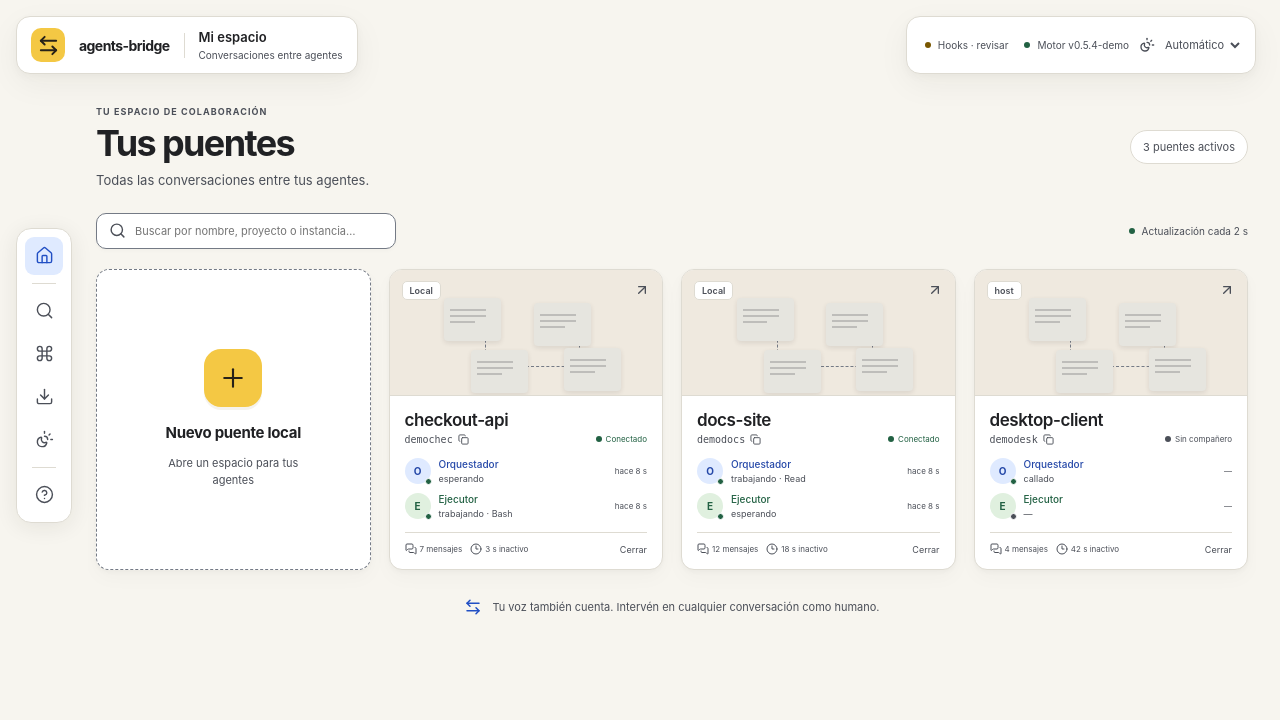
copy exports the full ID, and export uses the public API after native save
Click the button with aria-label "Copiar ID de checkout-api": (437, 439) 404,434 -> 469,445
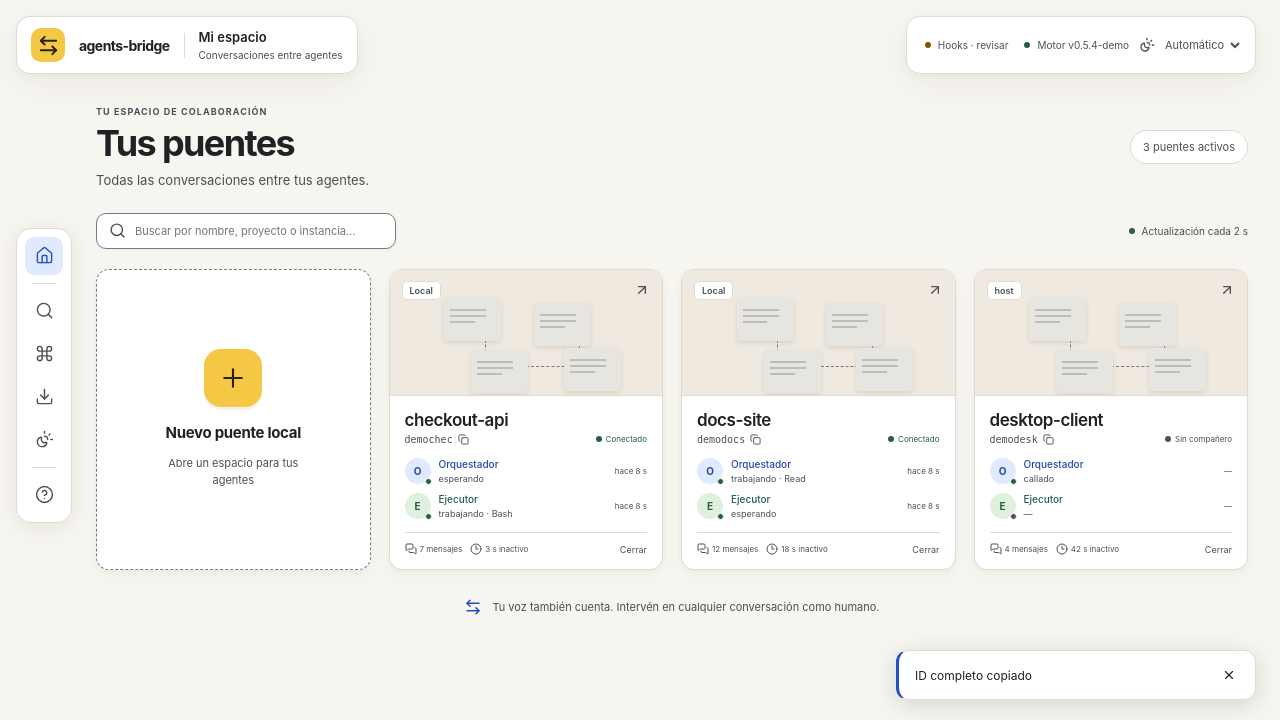
Check: the text "ID completo copiado" is shown, box 915,668 -> 1032,682
Click the button with aria-label "Abrir checkout-api": (526, 333) 390,270 -> 662,396
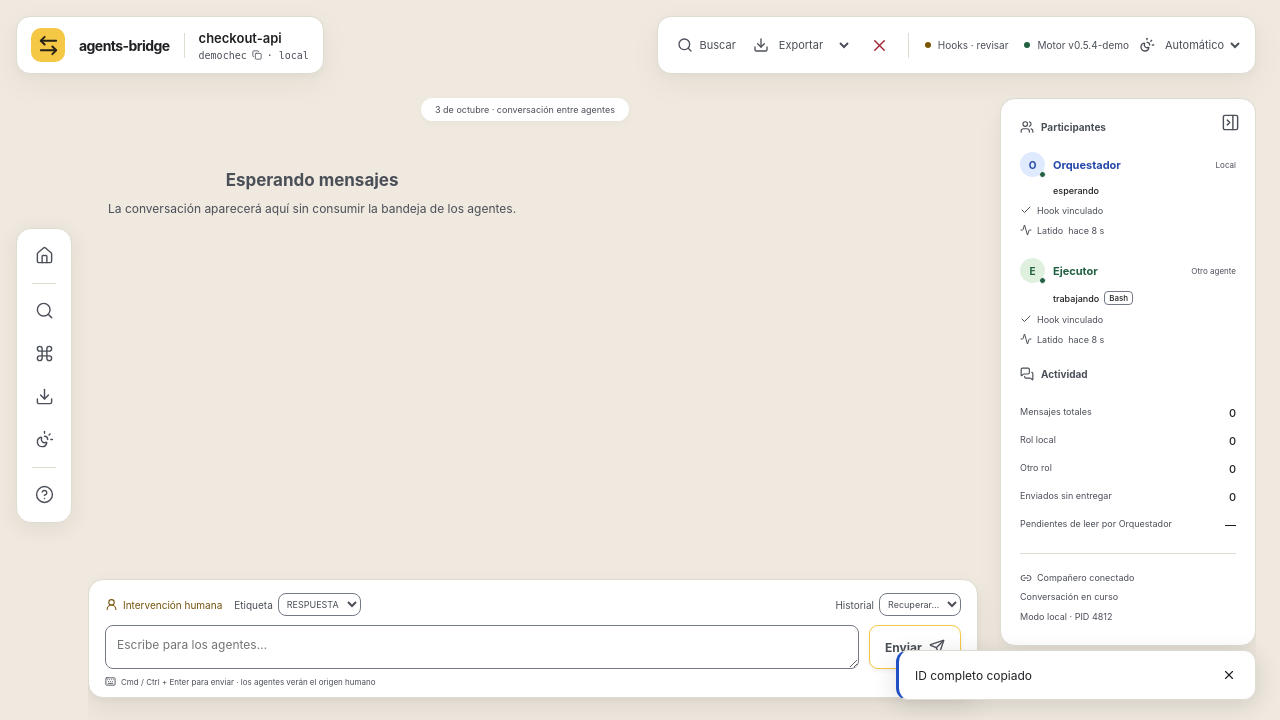
Select "JSONL" in the dropdown named "Formato de exportación": (812, 45) 773,32 -> 852,58
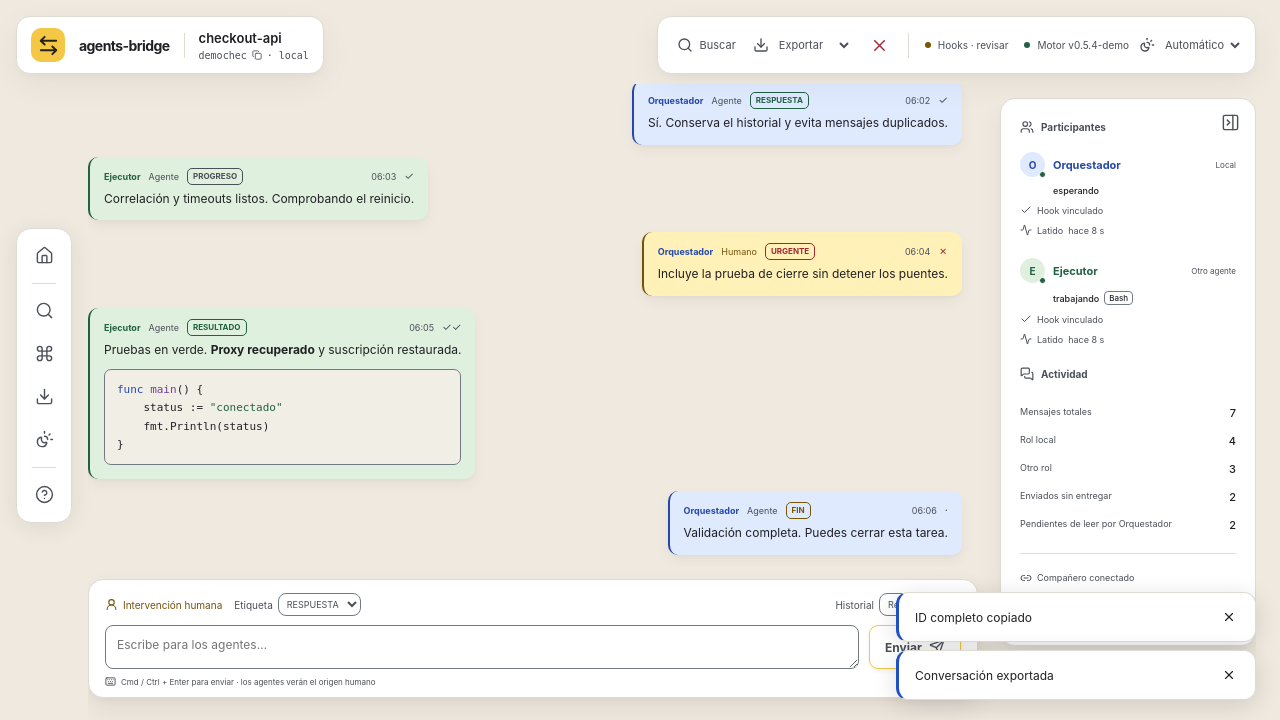
Check: the text "Conversación exportada" is shown, box 915,668 -> 1054,682
